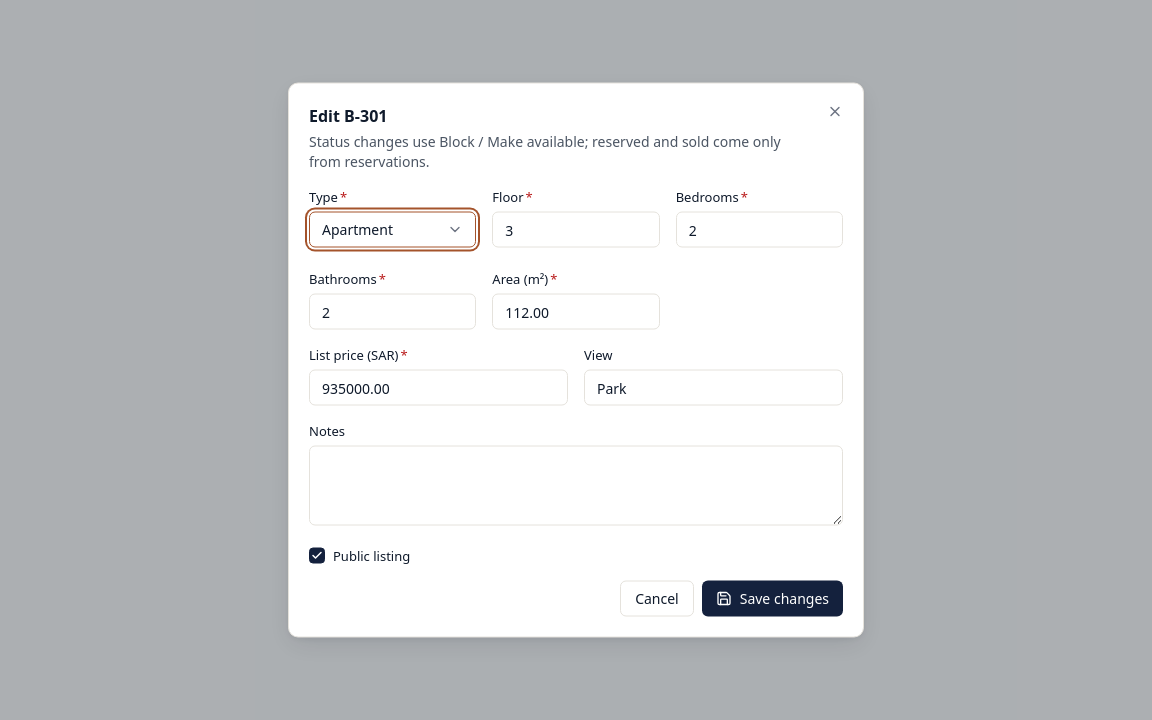
Test: unit form › sends only changed fields for an available unit and validates numbers
The image size is (1152, 720).
Later steps or results of the test are not shown.
Replace the text in the field labelled "List price (SAR)*" with "-5" at (438, 388), box 309,370 -> 568,406
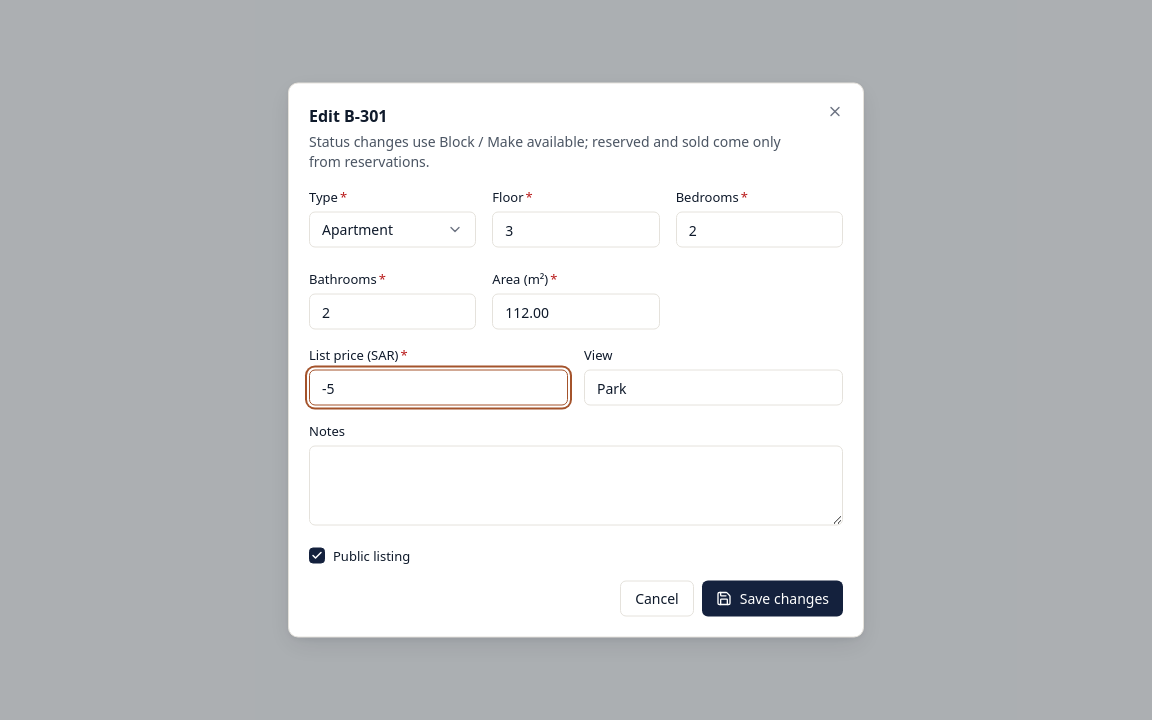
Click the button "Save changes" at (772, 598), box 702,580 -> 843,616
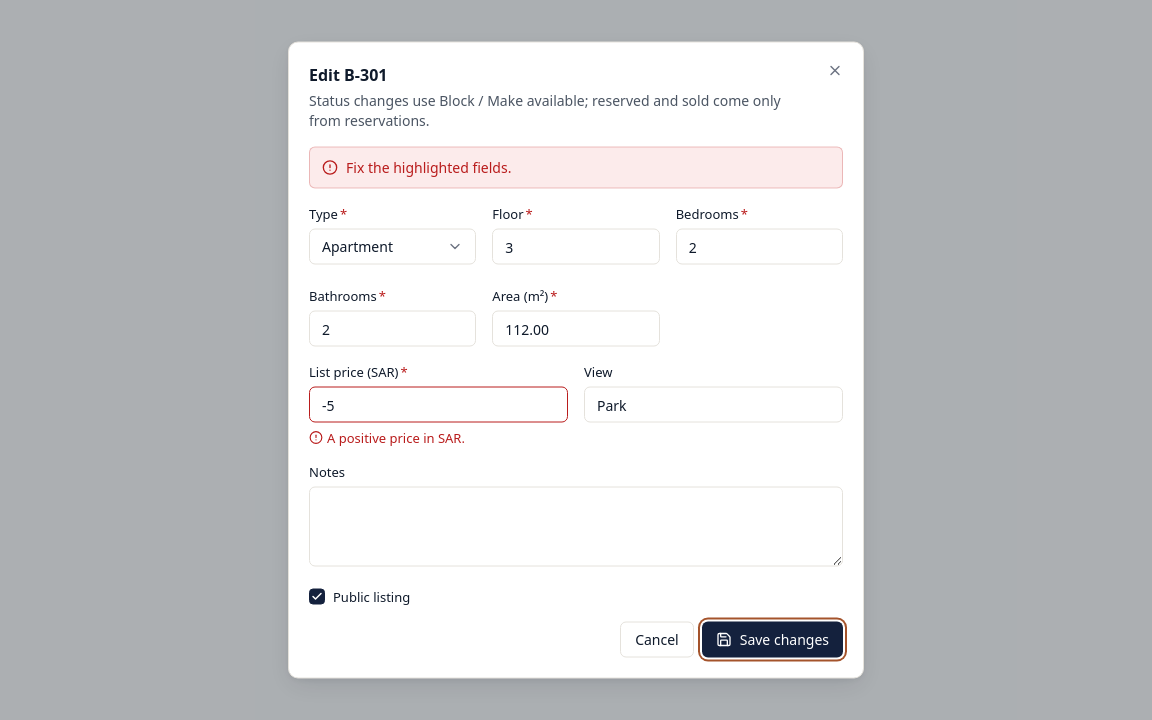
Expected: the text "A positive price in SAR." is shown, 309,428 -> 465,446
